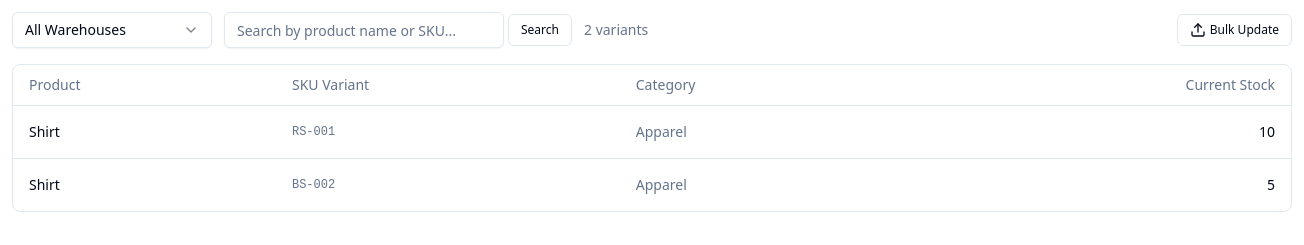
inline +/−/= buttons › preview updates when qty input changes after type is locked
The width and height of the screenshot is (1304, 245).
Click the dropdown. click: (112, 30)
box: [12,12,212,48]
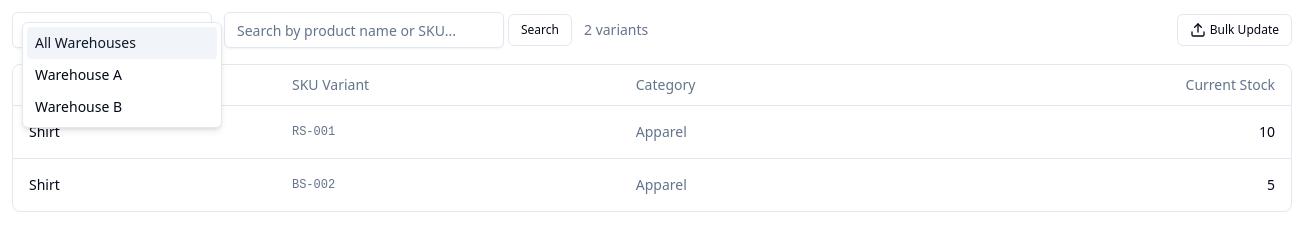
Click the option "Warehouse A". click: (78, 74)
box: [35,65,122,84]
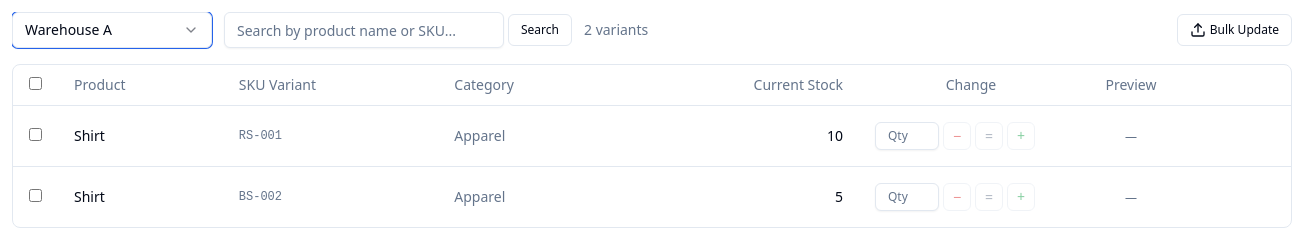
Type "5" into the number field with placeholder "Qty" in the row of "RS-001". click: (907, 136)
box: [875,122,939,150]
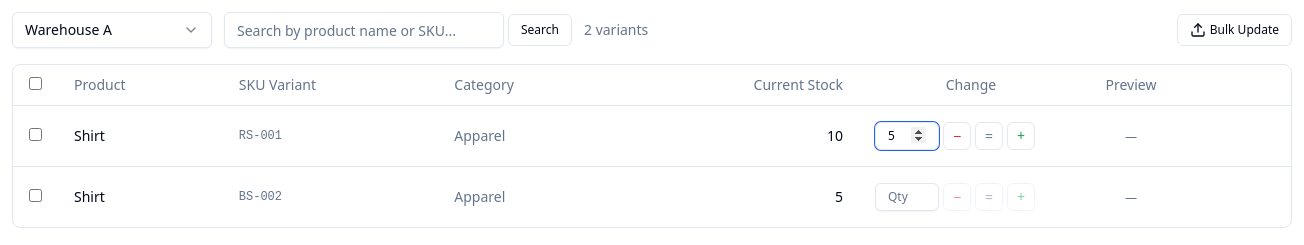
Click the button titled "Add" in the row of "RS-001". click: (1021, 136)
box: [1007,122,1035,150]
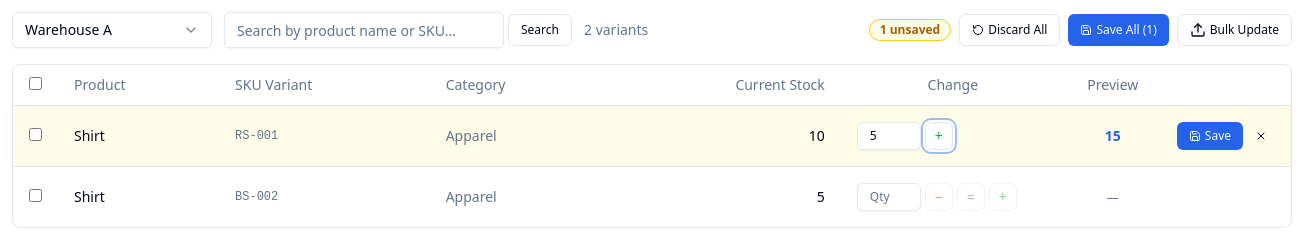
Now the text "15" is shown, box [1105,126,1121,144]
Replace the text in the number field showing "5" with "3". click: (889, 136)
box: [857,122,921,150]
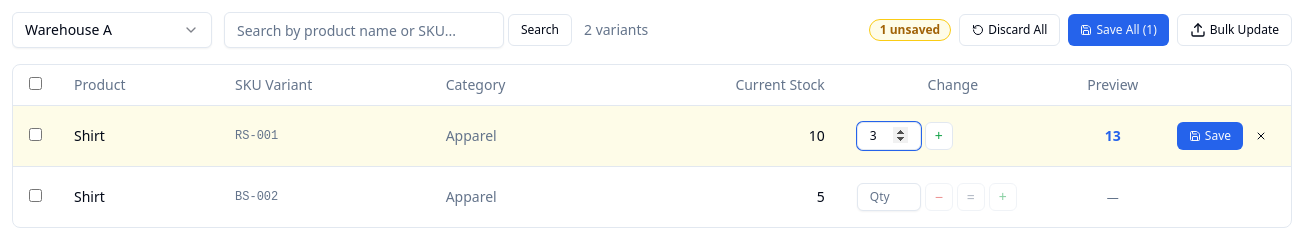
Now the text "13" is shown, box [1105,126,1121,144]
